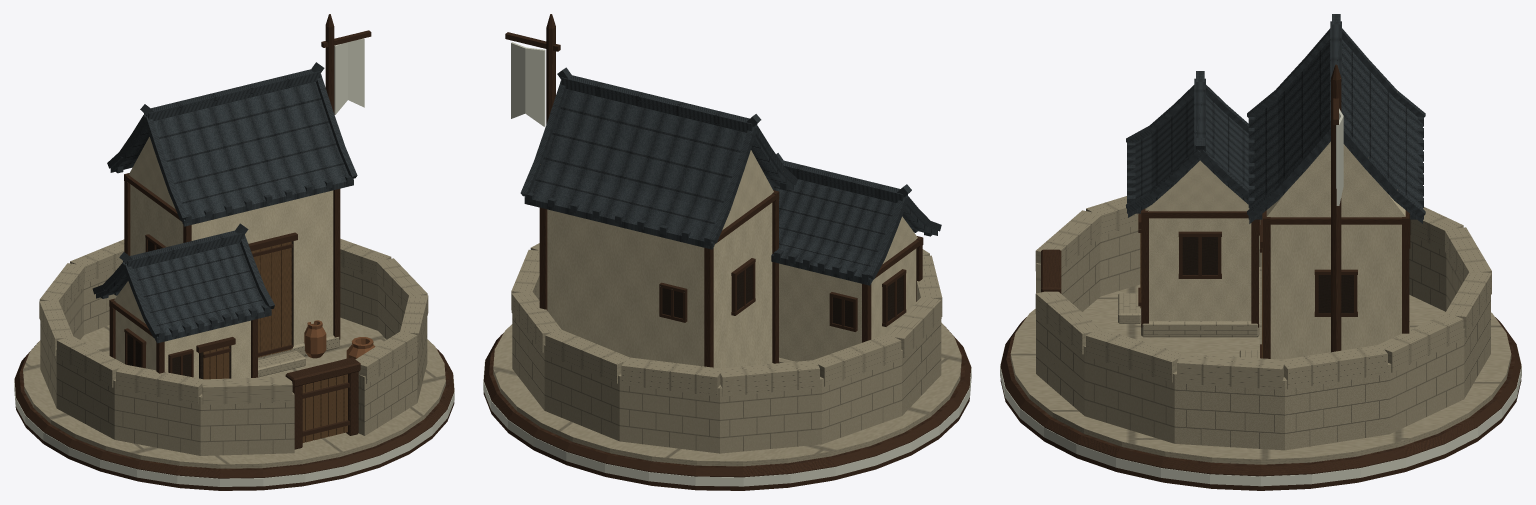
File: tk-village-beige.fbx
3 renders of one model, left to right at view 1: azimuth 30°, elevation 25°; view 2: azimuth 150°, elevation 25°; view 3: azimuth 270°, elevation 25°, orthographic. The views are drawn at different scales.
Parts seen in each view (by area): view 1: tk-village-beige; view 2: tk-village-beige; view 3: tk-village-beige.
Part boxes in pixels (box(x1,y1,x2,y2)): tk-village-beige: box(14, 14, 454, 490); tk-village-beige: box(483, 14, 971, 490); tk-village-beige: box(1000, 14, 1521, 490).
Size of the model in its own units: 0.013 by 0.0108 by 0.013.
Materials: 2 (1 with a texture image).
